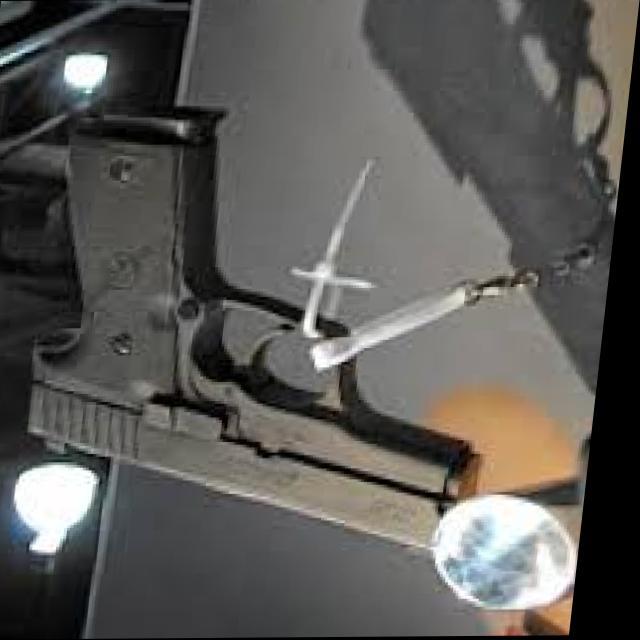handgun: (24, 117, 540, 582)
